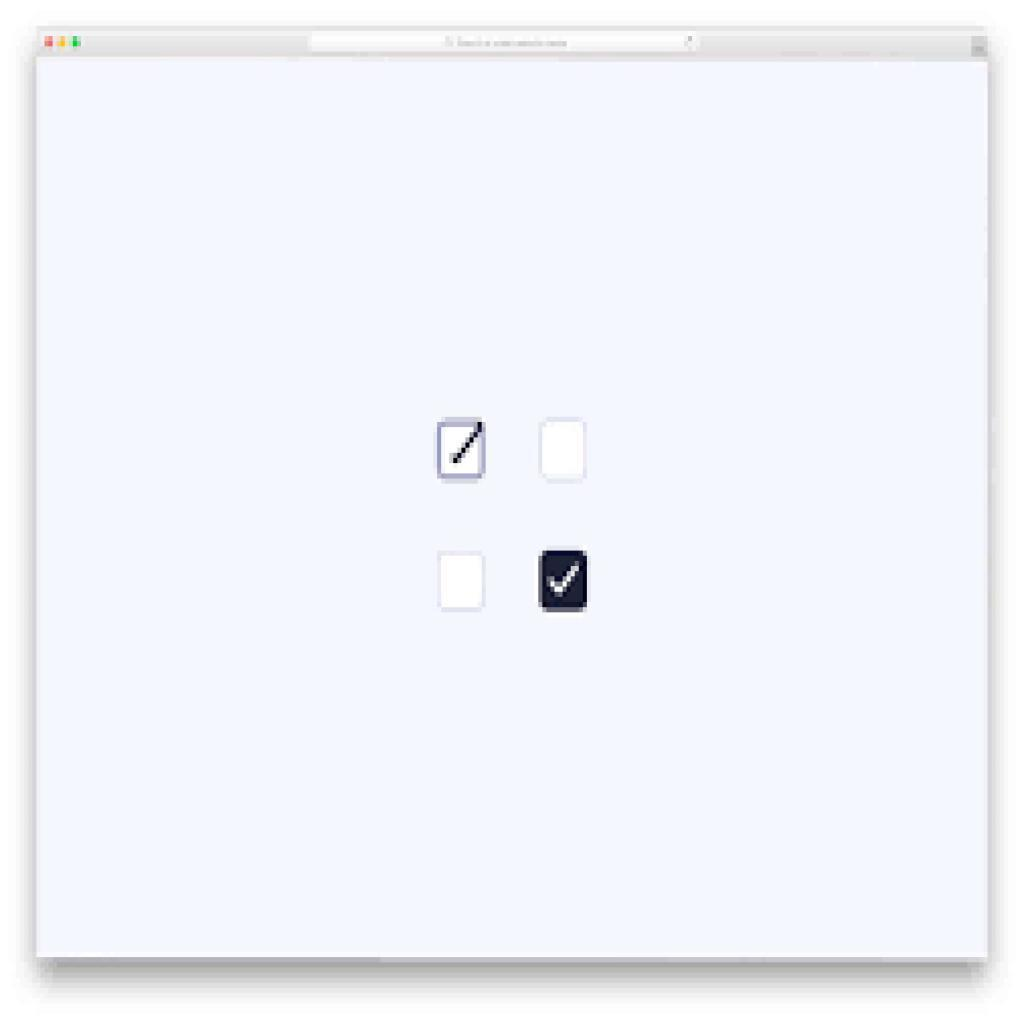checkbox: (540, 549, 591, 613), (541, 418, 587, 486), (436, 423, 488, 480), (441, 550, 486, 614)
